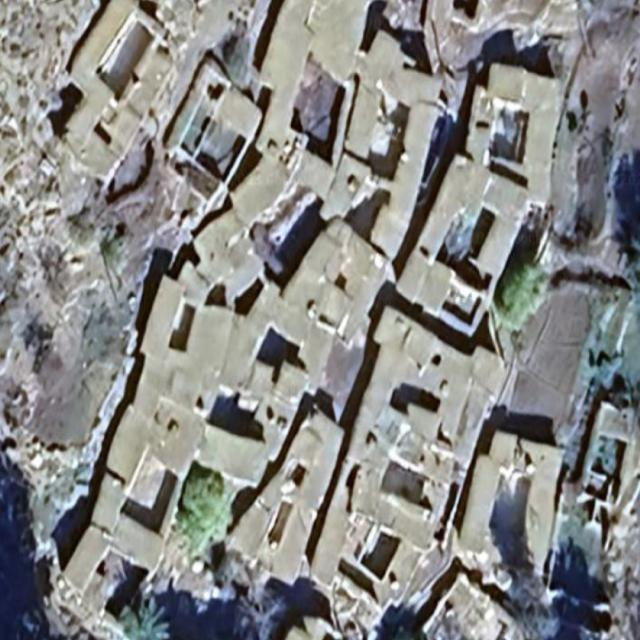Countryside roofs: (371, 297, 481, 545), (224, 396, 370, 582), (459, 49, 578, 210), (419, 151, 519, 339), (58, 2, 170, 169), (40, 488, 163, 640), (144, 248, 250, 401), (91, 392, 210, 522), (482, 414, 568, 573), (246, 1, 307, 162), (314, 21, 389, 151)
